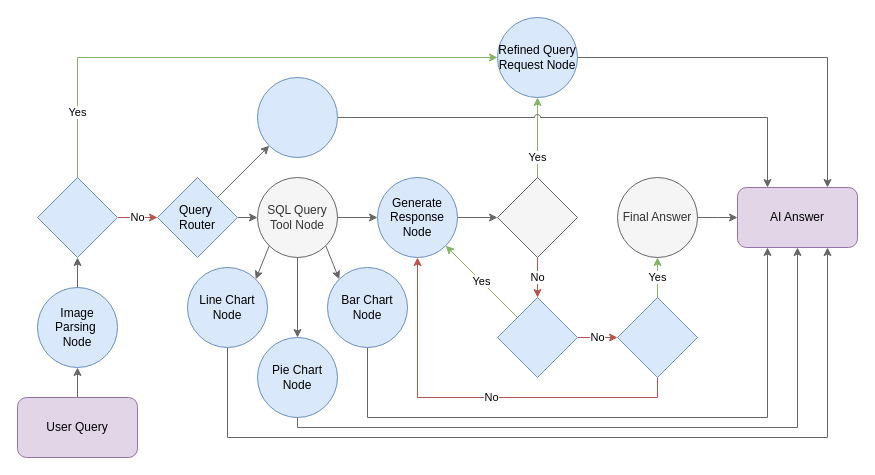
This 875x475 diagram has some shape labels left out. The shapes that lost their labels are listed below. From the top down, each one's centre as x and y in pixels, then its label:
At pixel 297 117: "Generate Simple Response Node".
At pixel 77 217: "Moderation needed?".
At pixel 537 217: "Too many tries?".
At pixel 537 337: "Hallucination?".
At pixel 657 337: "Answers the query?".
